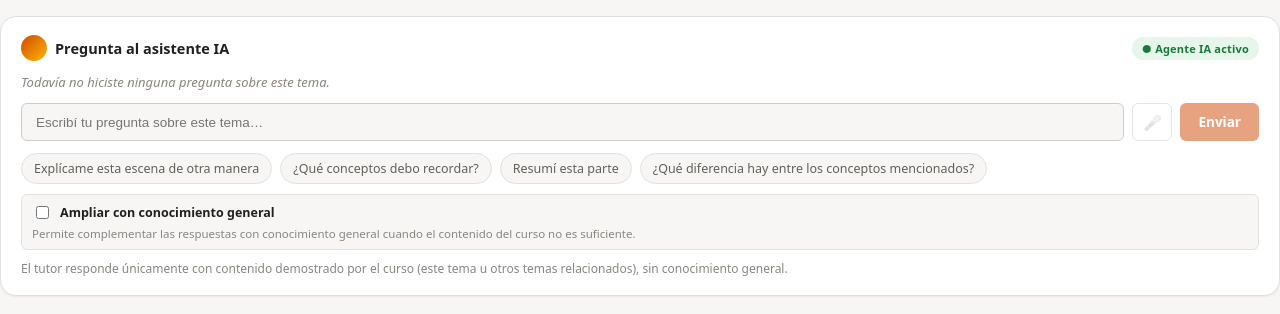
Test: TutorPanel › hacer click en una sugerencia carga la pregunta en el input sin enviarla
Click the button "Resumí esta parte": (566, 168) [500, 153, 632, 184]
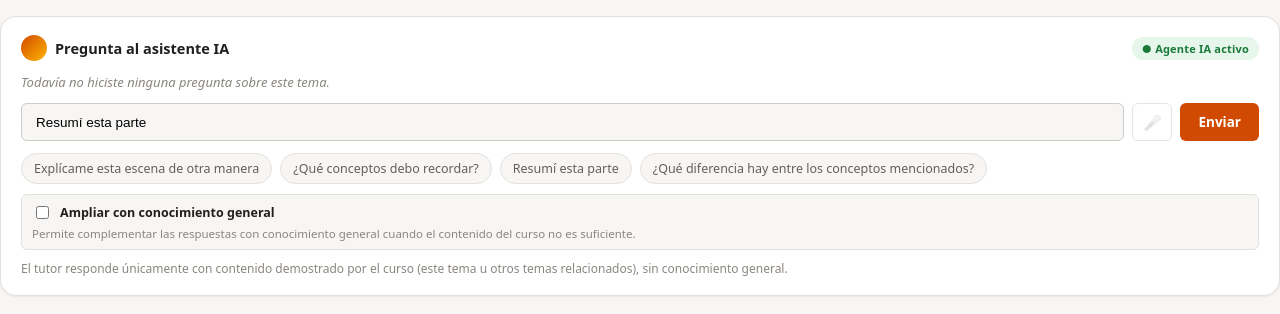
Expected: the field with placeholder "Escribí tu pregunta sobre este tema…" holds "Resumí esta parte", [21, 103, 1124, 141]
